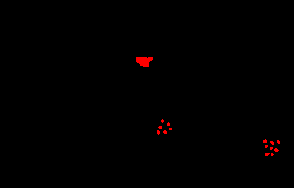Target: (136, 57, 153, 67), (274, 148, 279, 152), (163, 130, 167, 134), (263, 139, 267, 143), (270, 141, 274, 145), (157, 130, 160, 135), (265, 153, 270, 156), (161, 119, 164, 123), (167, 122, 170, 126), (158, 126, 162, 129), (277, 140, 280, 144), (265, 145, 268, 148), (270, 147, 273, 150), (271, 153, 274, 156), (169, 128, 172, 130)
